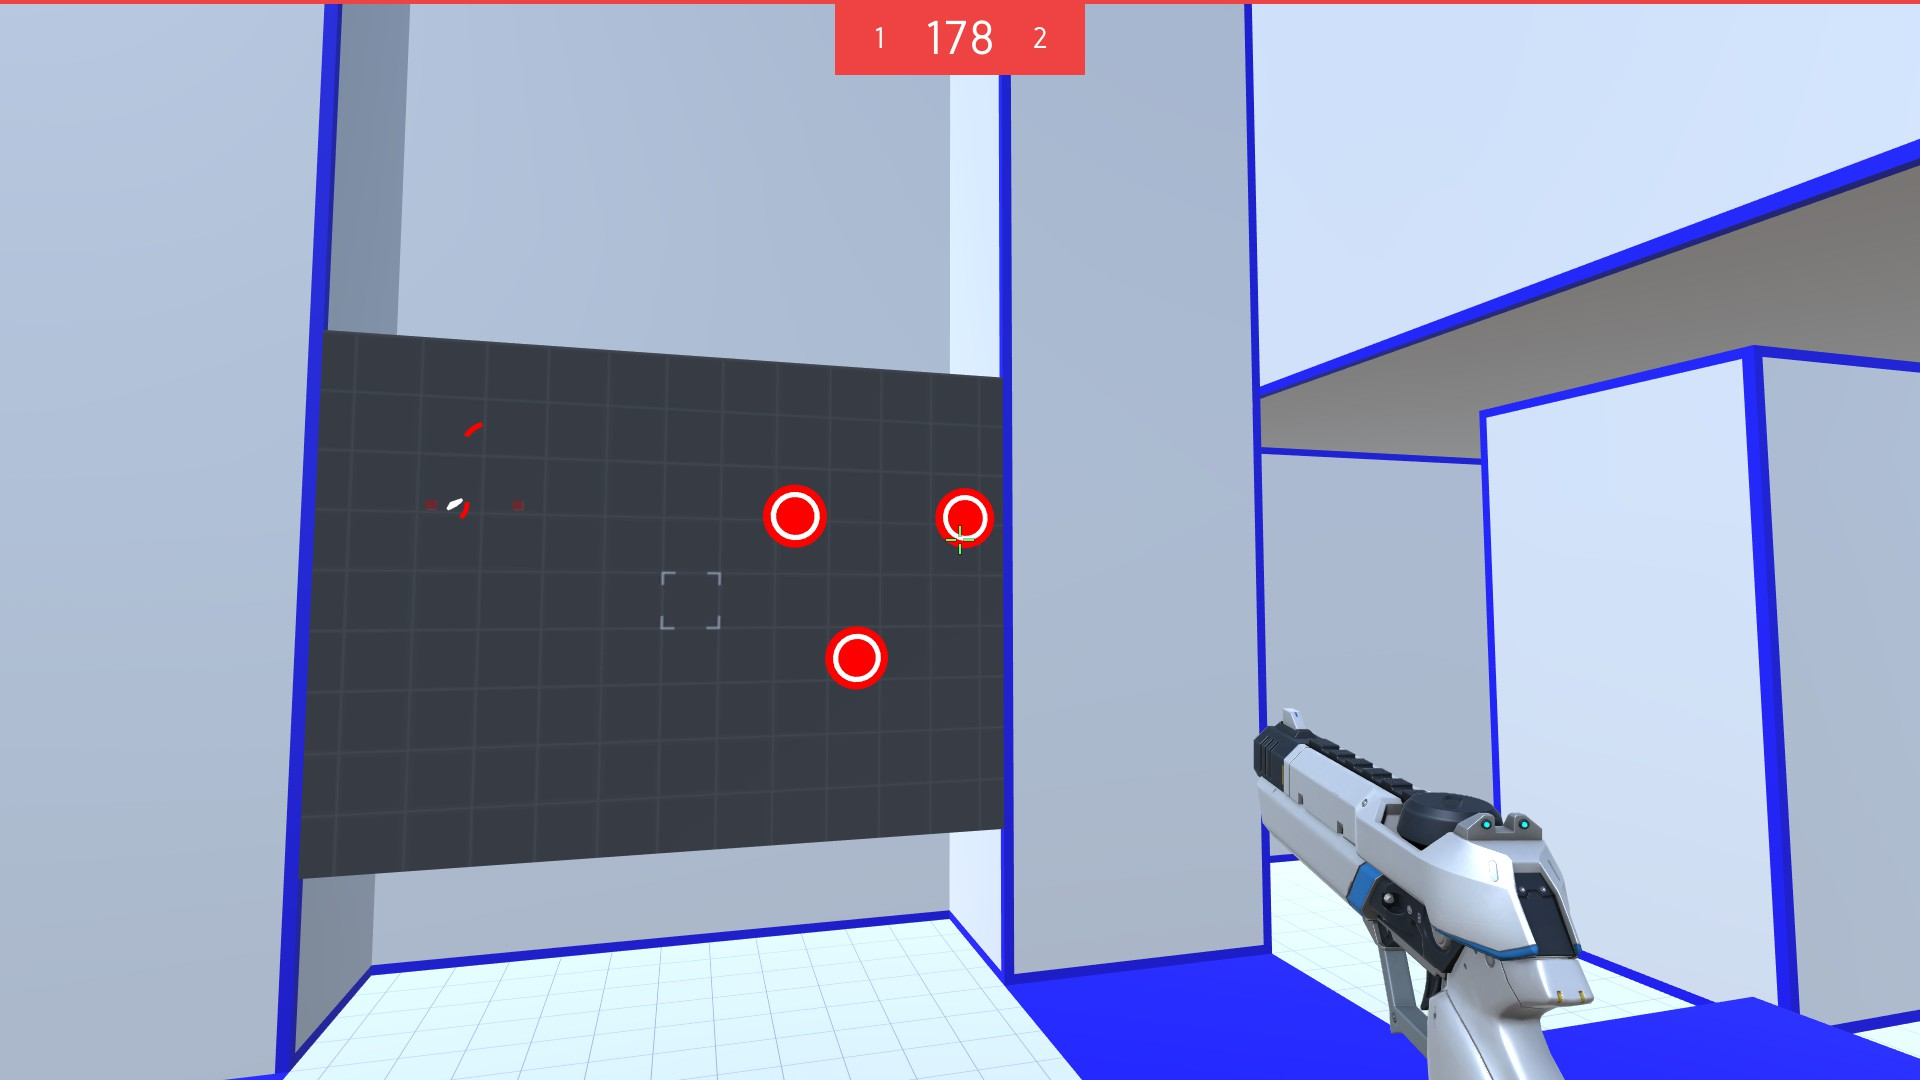target: (761, 481, 827, 553), (825, 626, 891, 694), (934, 484, 997, 554)
